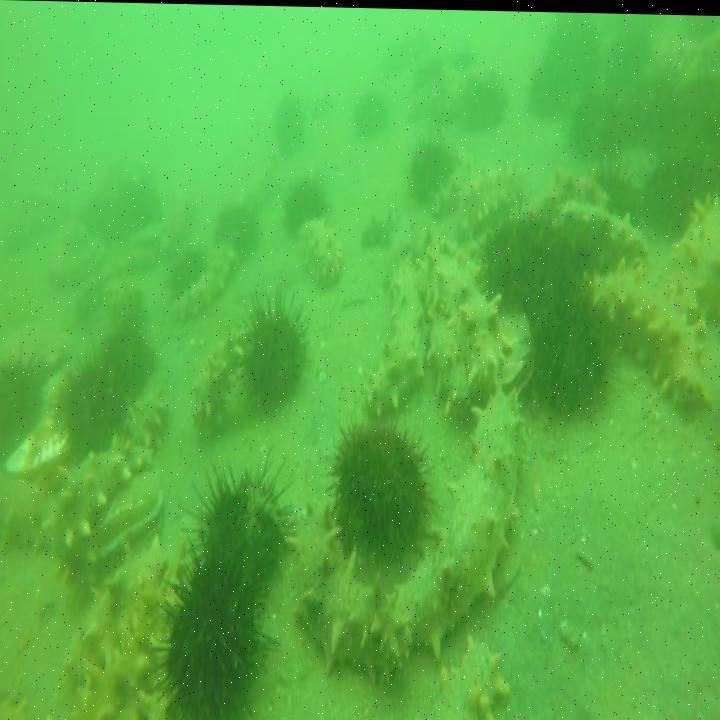echinus: (327, 404, 428, 585), (177, 453, 297, 604), (159, 559, 265, 720), (525, 263, 615, 418), (241, 291, 306, 418), (490, 213, 564, 310), (58, 355, 123, 455), (0, 345, 49, 465), (642, 139, 701, 238), (98, 322, 158, 419), (589, 156, 646, 232), (409, 128, 459, 209), (453, 65, 509, 130), (567, 84, 622, 149), (525, 52, 574, 117), (280, 170, 327, 237), (210, 196, 261, 255), (167, 239, 208, 302), (273, 90, 308, 158), (352, 83, 388, 140)
holothurian: (381, 390, 532, 671), (590, 256, 714, 418), (294, 496, 385, 693), (423, 231, 515, 402), (40, 434, 155, 570), (65, 536, 166, 668), (69, 602, 171, 719), (548, 187, 654, 275), (376, 236, 428, 411), (415, 631, 513, 720), (190, 314, 254, 441), (667, 184, 720, 325), (425, 278, 471, 426), (456, 155, 531, 235), (175, 234, 240, 324), (101, 386, 171, 467), (521, 160, 598, 222), (0, 471, 51, 559), (298, 206, 345, 289), (429, 153, 477, 220), (355, 204, 406, 251)
scallop: (97, 467, 166, 559), (2, 409, 71, 477)
